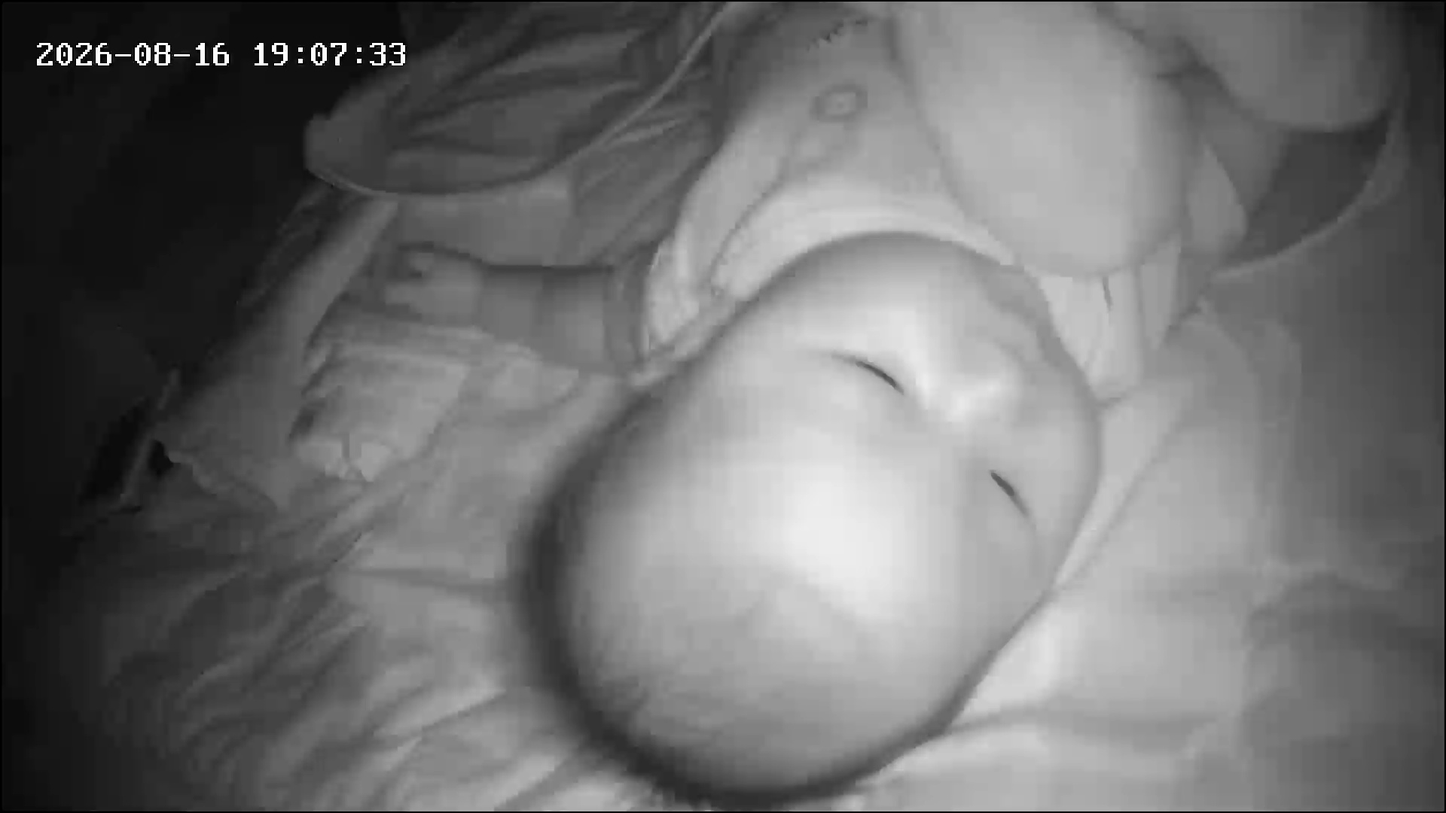baby: (503, 3, 1337, 805)
baby_face: (539, 221, 1120, 805)
